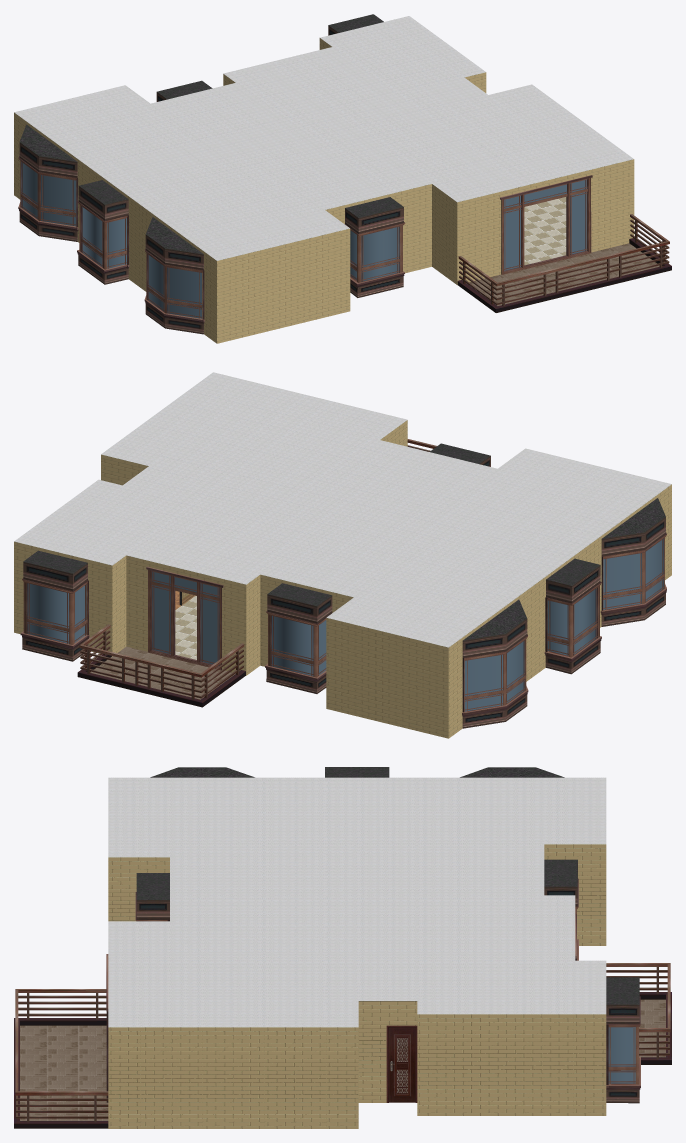
Rendered from house_0120500.FBX.
The picture shows the model from 3 angles, top to bottom: view 1: azimuth 30°, elevation 25°; view 2: azimuth 150°, elevation 25°; view 3: azimuth 270°, elevation 25°; orthographic projection. The views are drawn at different scales.
Visible parts, largest first — view 1: house_0120500_roof_100_00, house_0120500_outwall_100_11, house_0120500_floor_100_01, house_0120500_outwall_100_15, house_0120500_floor_102_00, house_0120500_floor_103_00, house_0120500_floor_104_00, house_0120500_outwall_101_03, house_0120500_floor_108_00, house_0120500_outwall_100_10, house_0120500_outwall_100_13, house_0120500_floor_101_00 (+4 smaller); view 2: house_0120500_roof_100_00, house_0120500_outwall_100_09, house_0120500_floor_103_00, house_0120500_floor_102_00, house_0120500_floor_100_00, house_0120500_floor_105_00, house_0120500_floor_107_00, house_0120500_floor_108_00, house_0120500_outwall_106_00, house_0120500_outwall_100_10, house_0120500_outwall_100_05, house_0120500_outwall_100_03 (+7 smaller); view 3: house_0120500_roof_100_00, house_0120500_outwall_100_16, house_0120500_outwall_100_02, house_0120500_floor_100_01, house_0120500_floor_105_00, house_0120500_outwall_100_00, house_0120500_outwall_100_08, house_0120500_floor_100_00, house_0120500_outwall_101_00, house_0120500_outwall_100_12, house_0120500_tcx_100_16, house_0120500_floor_104_00 (+5 smaller).
Part boxes in pixels (x1=…): house_0120500_roof_100_00: x1=14, y1=16, x2=633, y2=260; house_0120500_outwall_100_11: x1=217, y1=228, x2=350, y2=337; house_0120500_floor_100_01: x1=457, y1=214, x2=671, y2=312; house_0120500_outwall_100_15: x1=457, y1=159, x2=634, y2=279; house_0120500_floor_102_00: x1=144, y1=217, x2=204, y2=334; house_0120500_floor_103_00: x1=18, y1=124, x2=78, y2=241; house_0120500_floor_104_00: x1=344, y1=197, x2=405, y2=297; house_0120500_outwall_101_03: x1=500, y1=175, x2=592, y2=274; house_0120500_floor_108_00: x1=77, y1=180, x2=129, y2=284; house_0120500_outwall_100_10: x1=14, y1=112, x2=216, y2=337; house_0120500_outwall_100_13: x1=325, y1=184, x2=431, y2=267; house_0120500_floor_101_00: x1=524, y1=197, x2=566, y2=265; house_0120500_roof_100_00: x1=14, y1=372, x2=671, y2=647; house_0120500_outwall_100_09: x1=326, y1=618, x2=448, y2=732; house_0120500_floor_103_00: x1=462, y1=599, x2=528, y2=728; house_0120500_floor_102_00: x1=600, y1=498, x2=666, y2=626; house_0120500_floor_100_00: x1=77, y1=624, x2=245, y2=707; house_0120500_floor_105_00: x1=20, y1=550, x2=181, y2=661; house_0120500_floor_107_00: x1=265, y1=583, x2=332, y2=693; house_0120500_floor_108_00: x1=544, y1=558, x2=601, y2=674; house_0120500_outwall_106_00: x1=146, y1=566, x2=223, y2=670; house_0120500_outwall_100_10: x1=448, y1=484, x2=671, y2=731; house_0120500_outwall_100_05: x1=126, y1=555, x2=246, y2=669; house_0120500_outwall_100_03: x1=14, y1=541, x2=112, y2=650; house_0120500_roof_100_00: x1=108, y1=777, x2=606, y2=1027; house_0120500_outwall_100_16: x1=108, y1=1027, x2=358, y2=1121; house_0120500_outwall_100_02: x1=417, y1=1014, x2=606, y2=1108; house_0120500_floor_100_01: x1=14, y1=989, x2=108, y2=1128; house_0120500_floor_105_00: x1=606, y1=977, x2=640, y2=1103; house_0120500_outwall_100_00: x1=358, y1=1001, x2=417, y2=1095; house_0120500_outwall_100_08: x1=544, y1=844, x2=606, y2=938; house_0120500_floor_100_00: x1=606, y1=963, x2=671, y2=1064; house_0120500_outwall_101_00: x1=386, y1=1025, x2=417, y2=1102; house_0120500_outwall_100_12: x1=108, y1=857, x2=169, y2=921; house_0120500_tcx_100_16: x1=108, y1=1122, x2=358, y2=1128; house_0120500_floor_104_00: x1=135, y1=873, x2=169, y2=921.
Size of the model in its own units: 1618 by 290 by 1702.
Materials: 93 (93 with a texture image).
